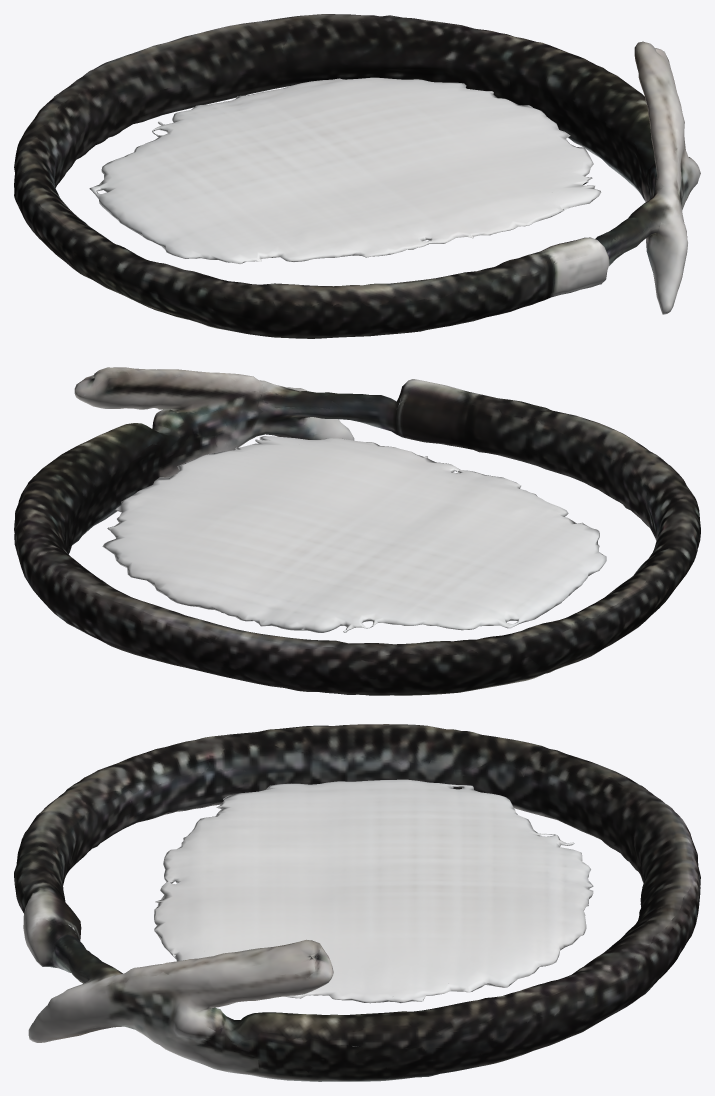
File: brazaletex3.glb
3 views of the same model, one above another, from view 1: azimuth 30°, elevation 25°; view 2: azimuth 150°, elevation 25°; view 3: azimuth 270°, elevation 25° (orthographic). The views are drawn at different scales.
Visible parts, largest first — view 1: mesh; view 2: mesh; view 3: mesh.
Boxes of the visible parts, bbox=[...] form: mesh: bbox=[14, 14, 700, 338]; mesh: bbox=[14, 367, 700, 695]; mesh: bbox=[14, 724, 700, 1081].
Size of the model in its own units: 1.83 by 0.4402 by 1.75.
Materials: 1 (1 with a texture image).
